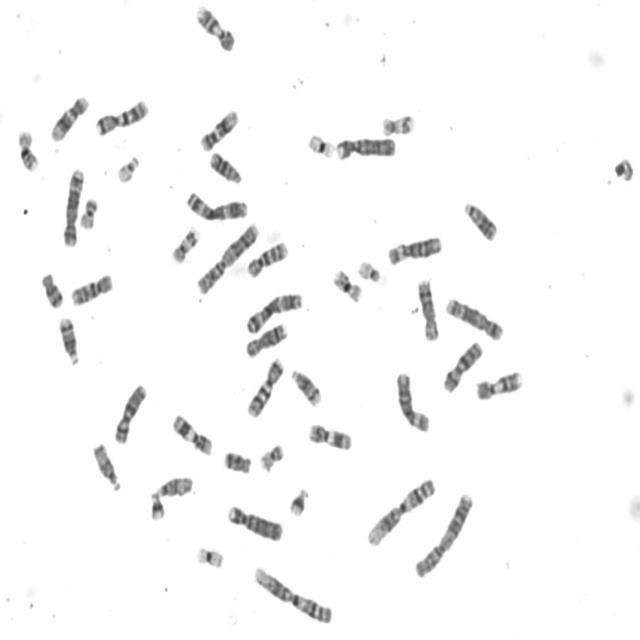A1: (363, 474, 438, 550), (251, 562, 334, 626)
A2: (411, 489, 475, 579), (194, 218, 260, 296)
A3: (243, 288, 304, 336), (184, 188, 248, 222)
B4: (226, 502, 284, 544), (333, 134, 396, 161)
B5: (443, 294, 504, 342), (60, 165, 85, 248)
C10: (244, 237, 289, 280), (68, 271, 114, 307)
C11: (170, 410, 214, 458), (305, 421, 354, 453)
C12: (48, 92, 90, 144), (198, 106, 240, 153)
C6: (394, 368, 431, 434), (385, 232, 443, 267)
C7: (244, 355, 284, 420), (93, 96, 150, 136)
C8: (242, 320, 288, 359), (415, 276, 440, 344)
C9: (193, 1, 235, 54), (474, 366, 524, 402)
D13: (461, 198, 499, 243), (208, 149, 242, 185)
D14: (288, 364, 323, 409), (56, 313, 80, 368)
D15: (91, 439, 122, 494), (151, 474, 194, 498)
E16: (331, 266, 363, 304), (14, 127, 40, 173)
E17: (169, 223, 201, 266), (380, 111, 416, 137)
E18: (39, 269, 65, 310), (221, 447, 253, 475)
F19: (305, 130, 336, 160), (194, 543, 225, 571)
F20: (257, 439, 286, 474), (77, 196, 99, 230)
G21: (287, 485, 309, 518), (148, 490, 166, 521)
G22: (113, 151, 142, 185), (355, 258, 382, 283)
X: (439, 338, 484, 394), (111, 380, 148, 444)
